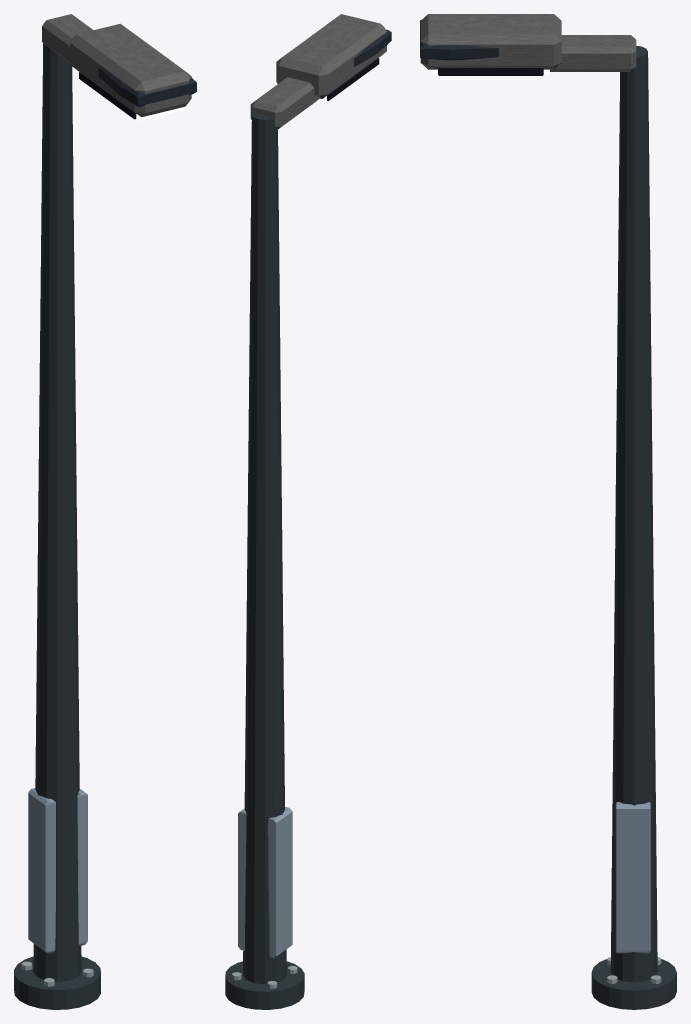
Rendered from lamp.glb.
3 renders of one model, left to right at view 1: azimuth 30°, elevation 25°; view 2: azimuth 150°, elevation 25°; view 3: azimuth 270°, elevation 25°, orthographic. The views are drawn at different scales.
Parts seen in each view (by area): view 1: Lamp post, Cutoff_Luminaire, Lamp housing, Base plate, Lamp arm; view 2: Lamp post, Cutoff_Luminaire, Lamp housing, Base plate, Lamp arm; view 3: Lamp post, Cutoff_Luminaire, Lamp housing, Lamp arm, Base plate.
Boxes of the visible parts, x1,y1,x2,y2 form: Lamp post: (33,43,81,981); Cutoff_Luminaire: (28,67,196,953); Lamp housing: (70,23,191,117); Base plate: (14,956,100,1009); Lamp arm: (42,14,93,62); Lamp post: (243,112,286,984); Cutoff_Luminaire: (238,29,391,957); Lamp housing: (276,14,386,98); Base plate: (225,961,304,1009); Lamp arm: (250,77,319,129); Lamp post: (610,46,657,982); Cutoff_Luminaire: (420,20,650,953); Lamp housing: (420,14,561,69); Lamp arm: (550,35,636,71); Base plate: (591,959,676,1009).
Bounding box in the file's own units: 0.4 × 5 × 1.2.
Materials: 8 (1 with a texture image).
